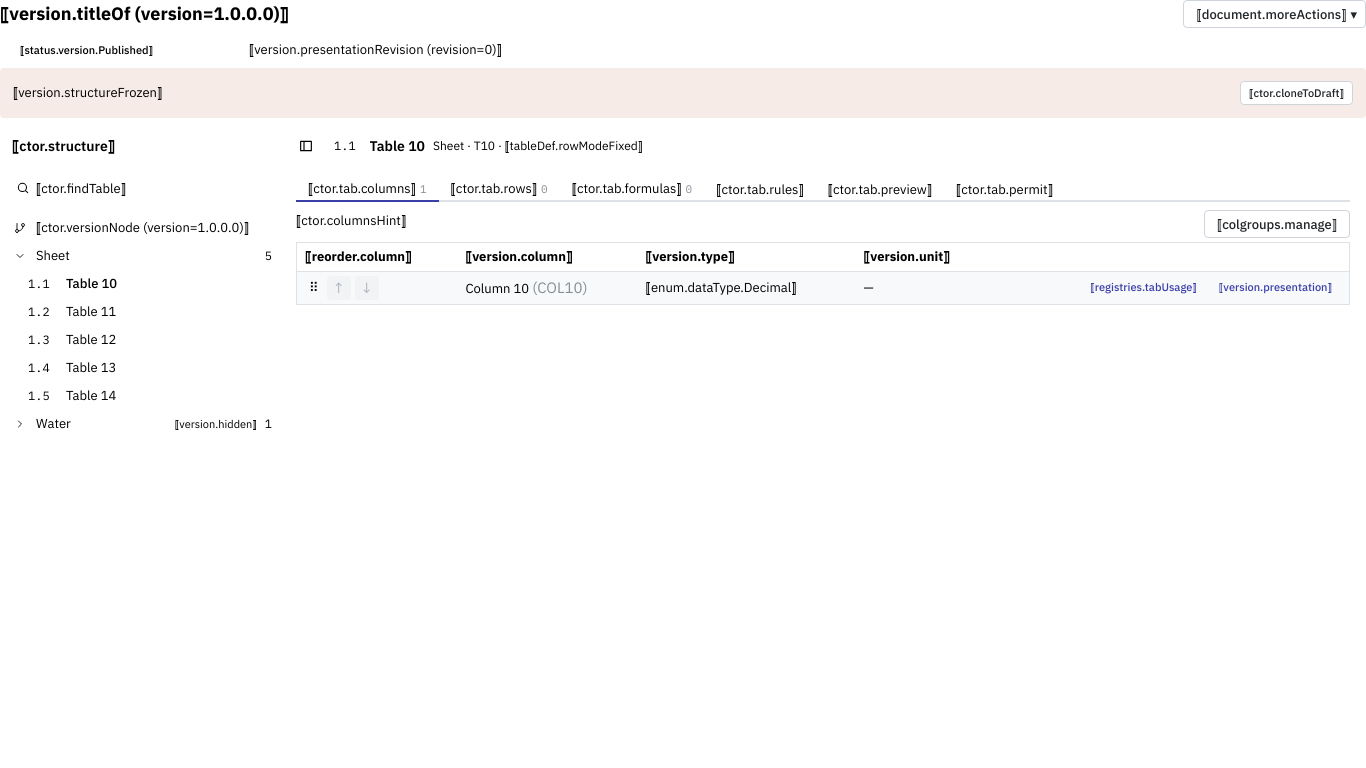
Test: TemplateVersionPage: дерево конструктора й одна таблиця в робочій області (UI-36) › опублікована версія: банер заморозки з дією «Clone to new draft» відкриває клон
Click the button "⟦ctor.cloneToDraft⟧": (1296, 93) [1240,81,1353,105]
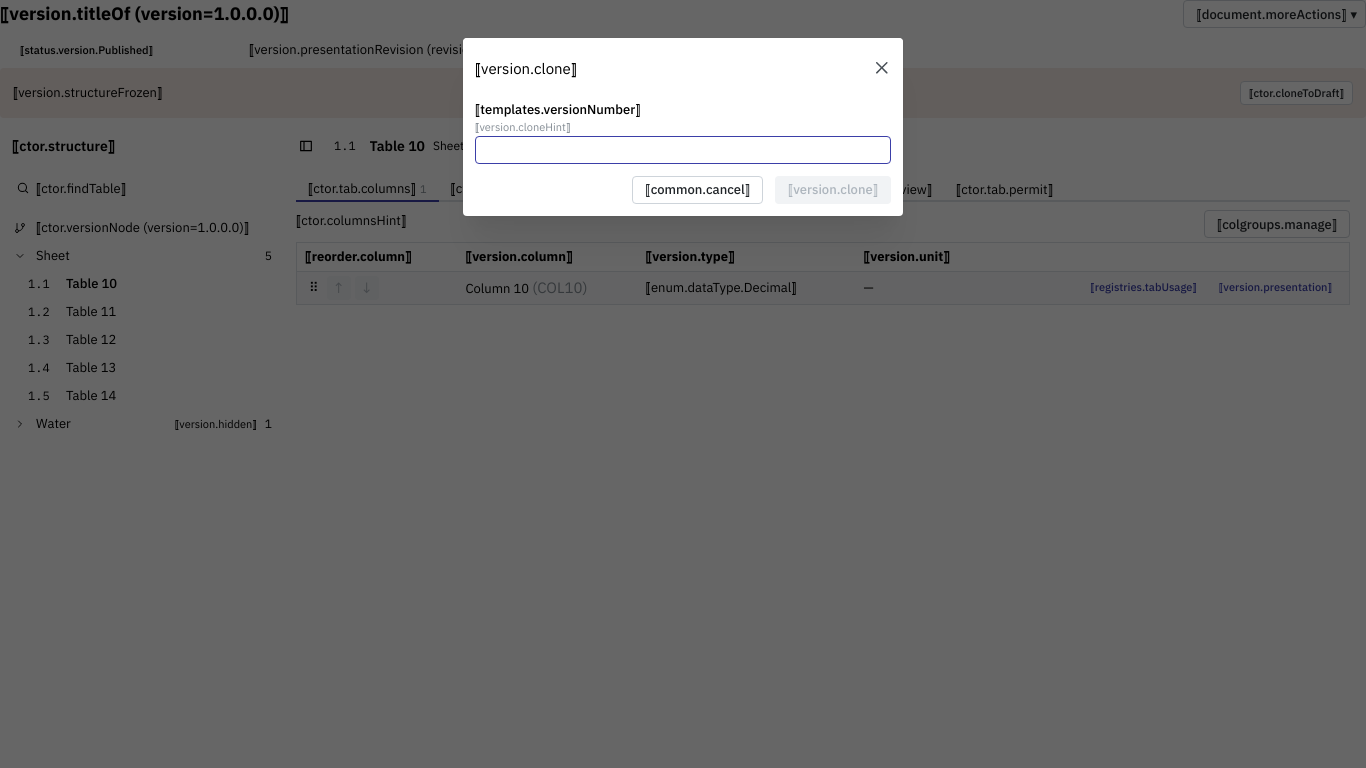
Check: the field is shown, box [475,136,891,164]
